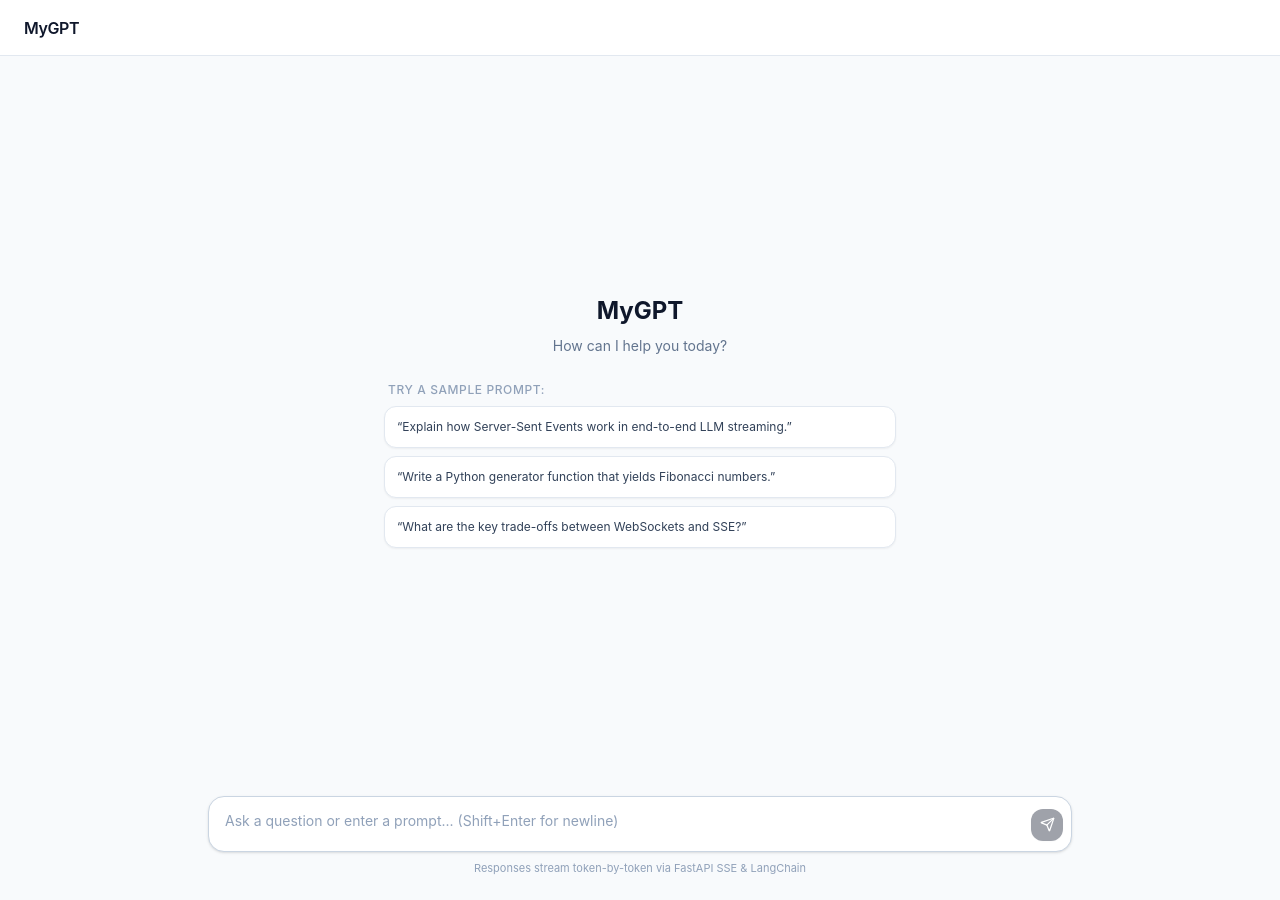
Test: ChatInterface Component › submits a prompt and incrementally updates message with streamed tokens
This screenshot has width=1280, height=900.
Replace the text in the text box with test id "chat-input-textarea" with "Hi there" at (640, 820), box [209,796,1071,844]
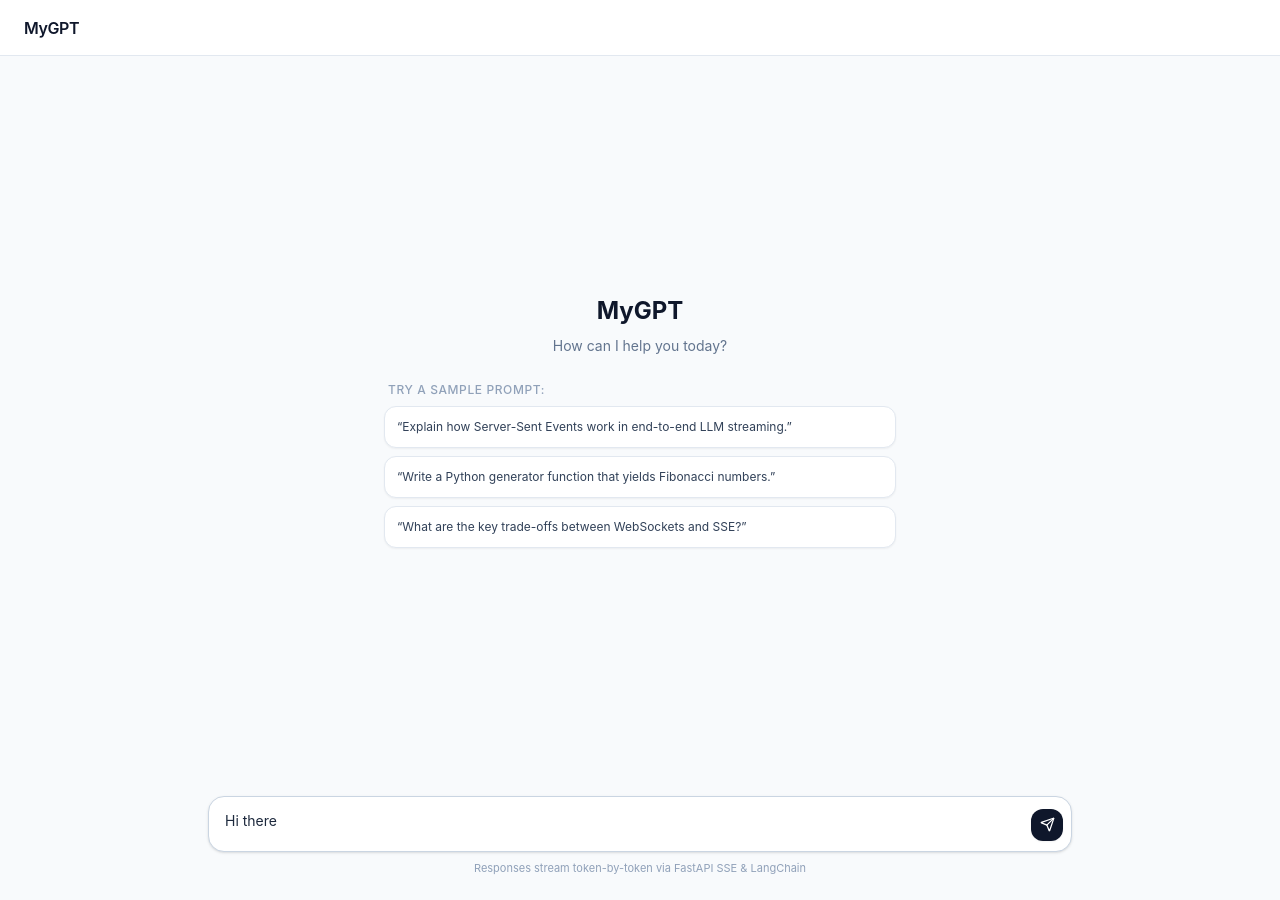
Click the button with test id "send-message-button" at (1047, 824), box [1031,808,1063,840]
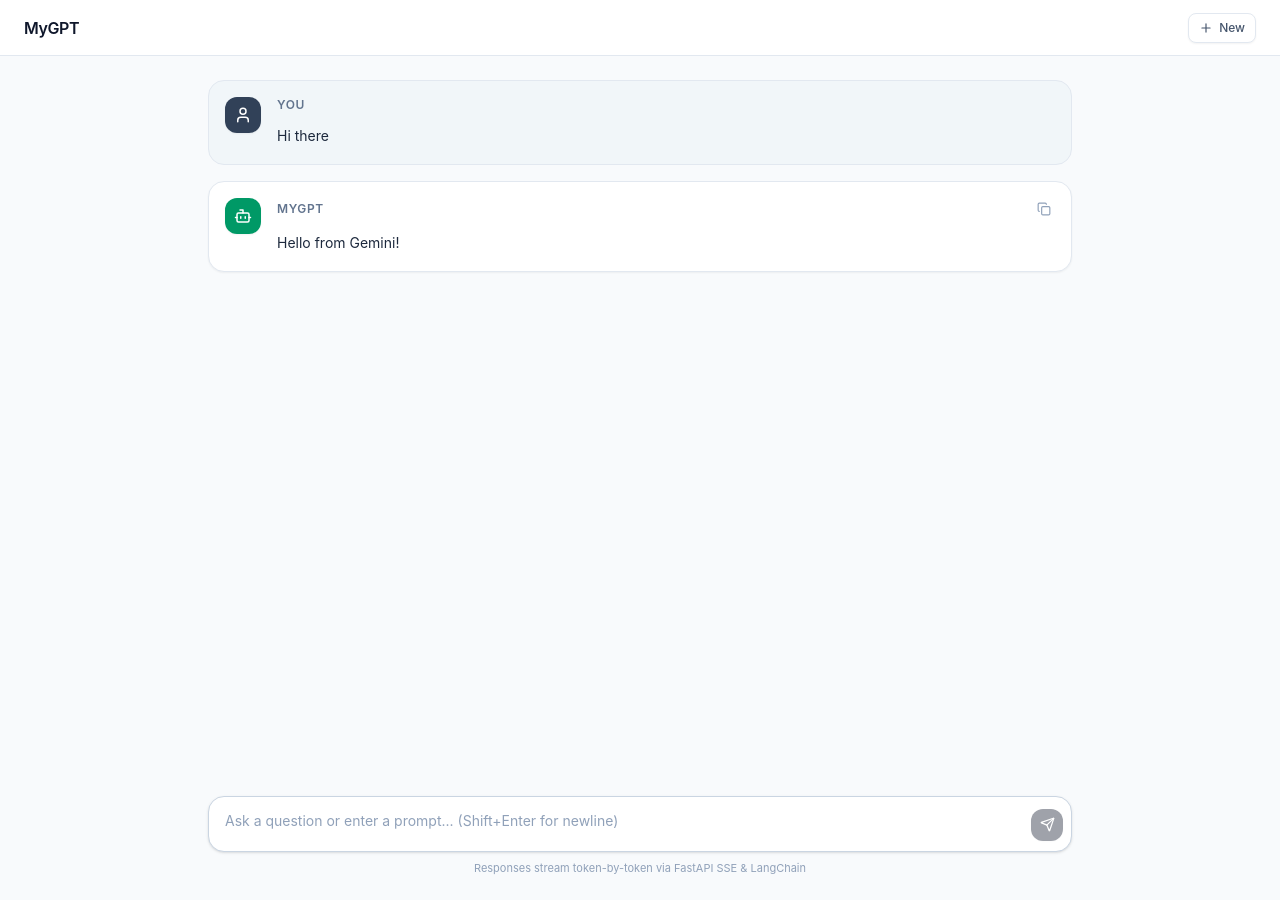
Expected: the text "Hi there" is shown, [277,127,329,144]
Expected: the text "Hello from Gemini!" is shown, [277,234,400,251]
